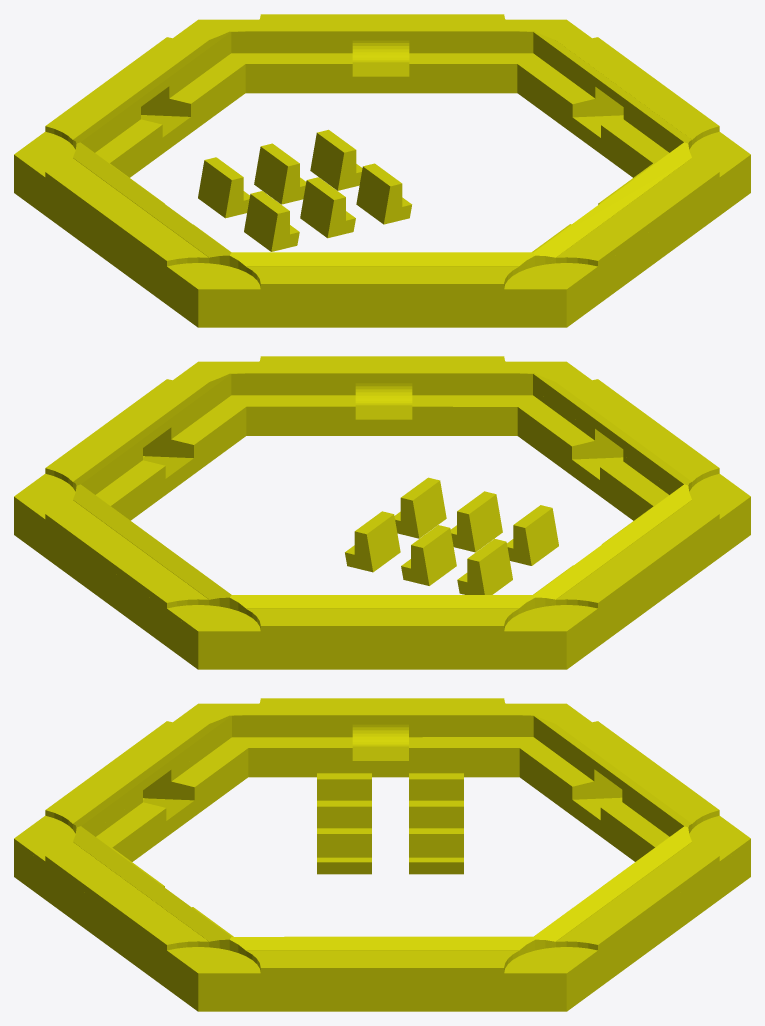
Rendered from base_wheet.glb.
3 views of the same model, one above another, from view 1: azimuth 30°, elevation 25°; view 2: azimuth 150°, elevation 25°; view 3: azimuth 270°, elevation 25° (orthographic).
Parts seen in each view (by area): view 1: base_wheet; view 2: base_wheet; view 3: base_wheet.
Part boxes in pixels (x1,y1,x2,y2): base_wheet: [14, 14, 750, 327]; base_wheet: [14, 356, 750, 669]; base_wheet: [14, 698, 750, 1011].
Size of the model in its own units: 79 by 6.95 by 91.22.
